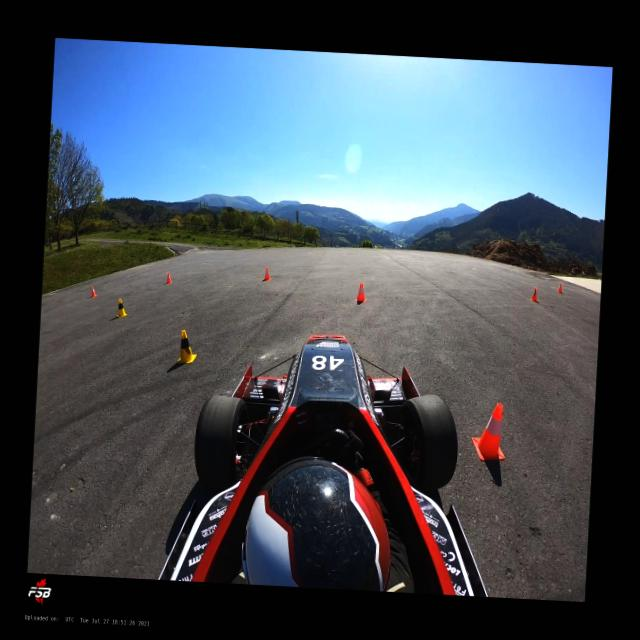orange_cone: (471, 402, 508, 462), (355, 282, 367, 302), (530, 288, 539, 302), (264, 266, 272, 280), (90, 286, 98, 298), (556, 283, 564, 294), (166, 272, 173, 284)
yellow_cone: (176, 330, 198, 364), (116, 298, 128, 318)
